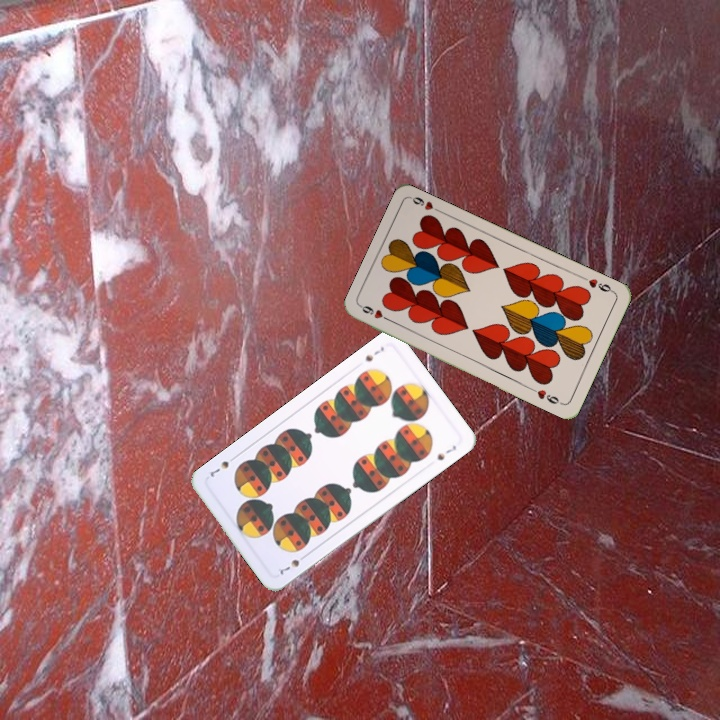H9: (578, 273, 617, 296), (357, 302, 395, 325)
S7: (275, 550, 310, 577), (361, 342, 387, 364)
